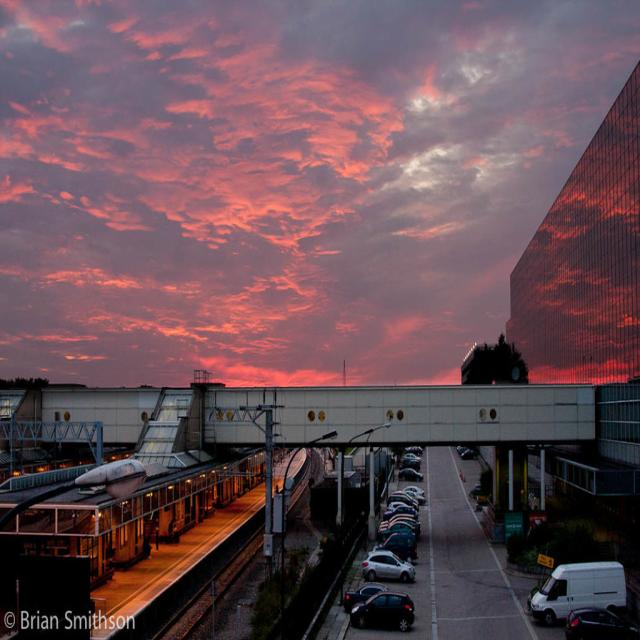car: (342, 585, 414, 633), (396, 468, 423, 483), (400, 453, 422, 462)
